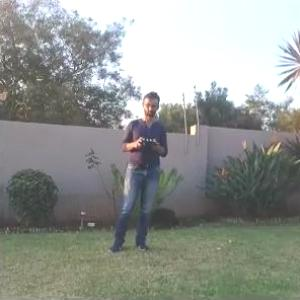follow: (100, 89, 170, 256)
